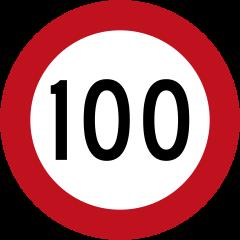Speed Limit -100-: (30, 64, 207, 173)
